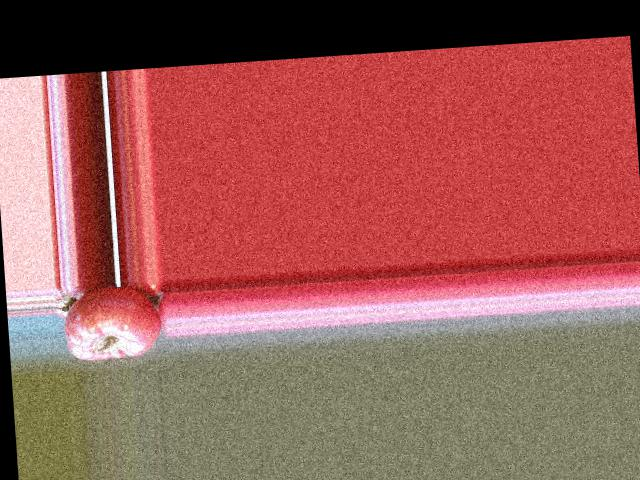tomato: (62, 283, 164, 361)
